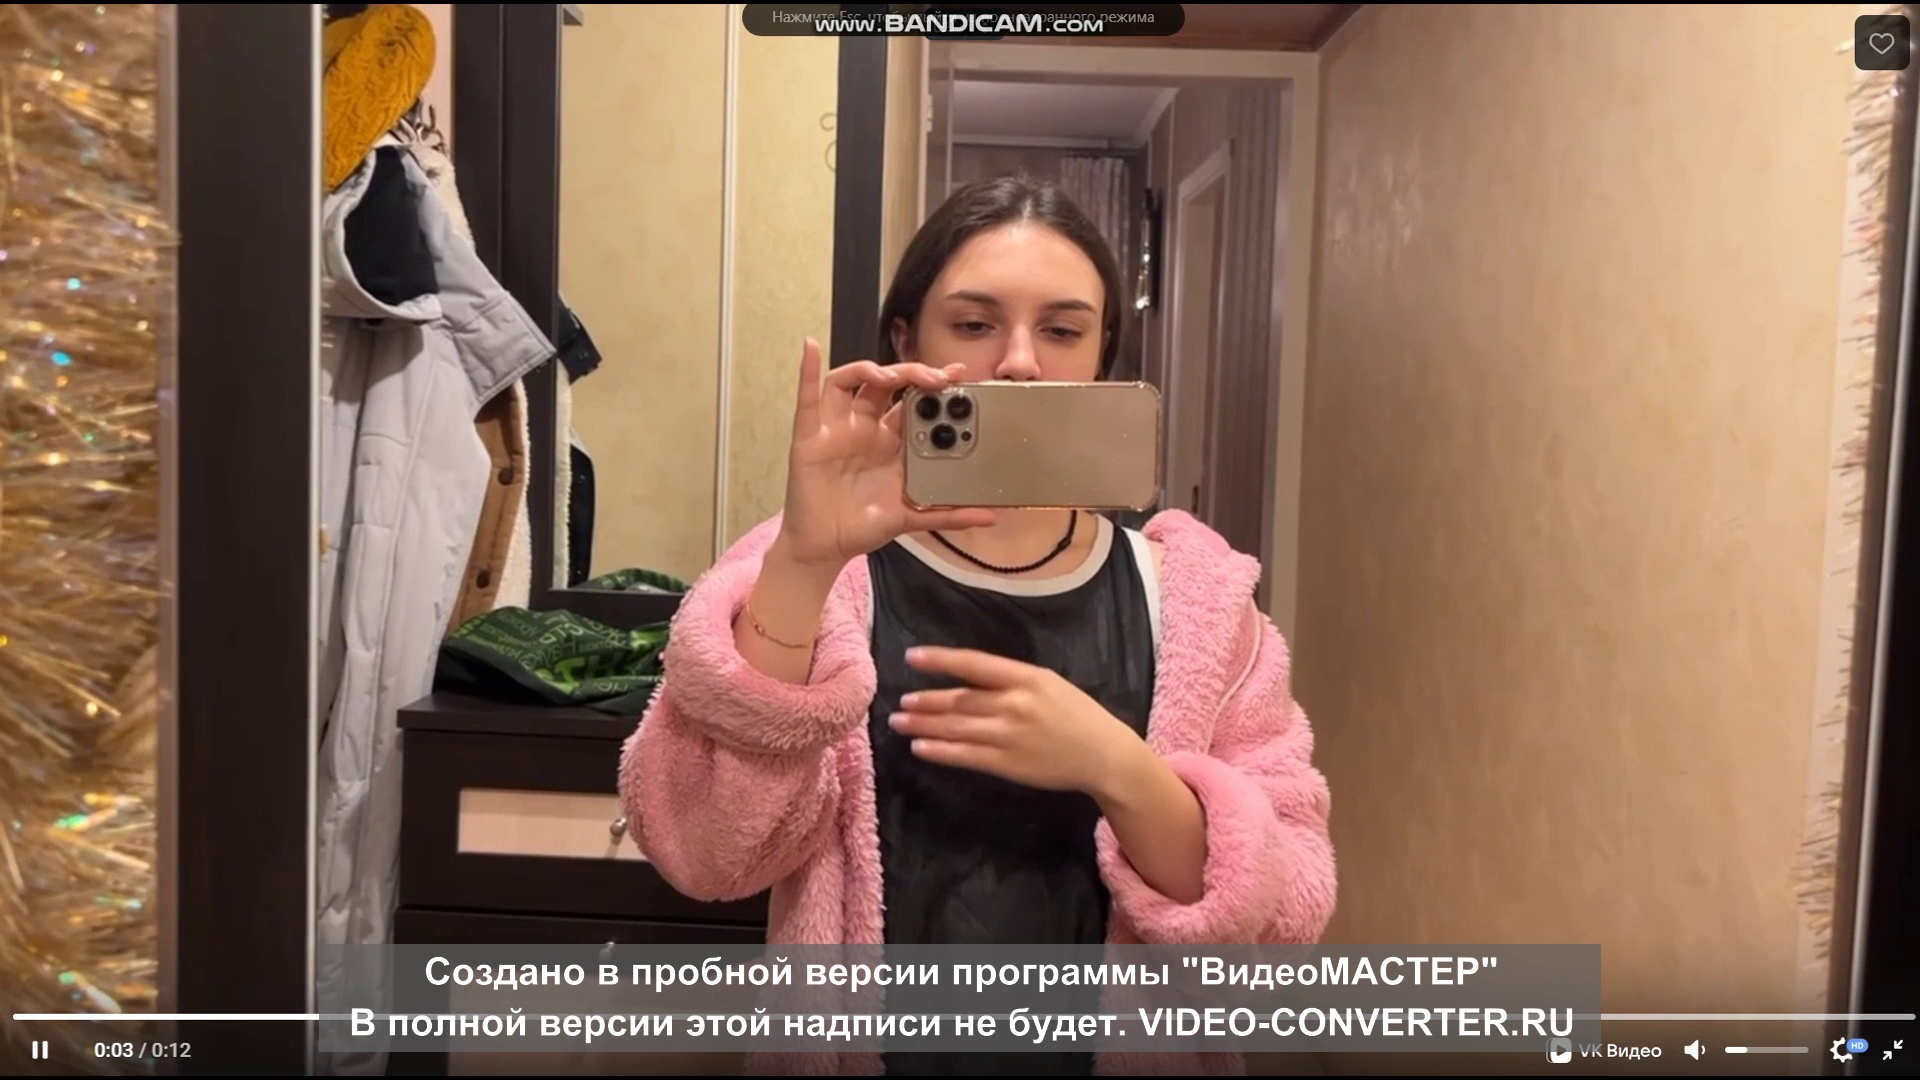Кисть: (884, 640, 1114, 804)
